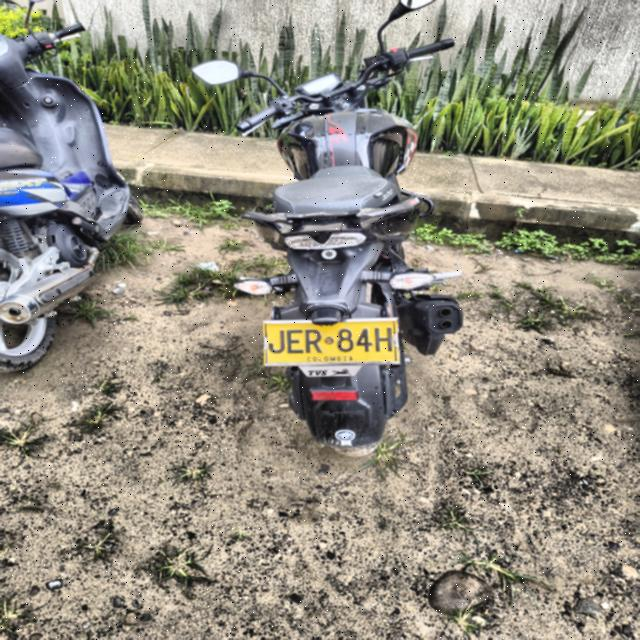4: (355, 328, 374, 353)
8: (337, 328, 356, 353)
E: (285, 329, 305, 355)
H: (373, 326, 393, 353)
J: (268, 329, 286, 355)
R: (304, 328, 324, 354)
